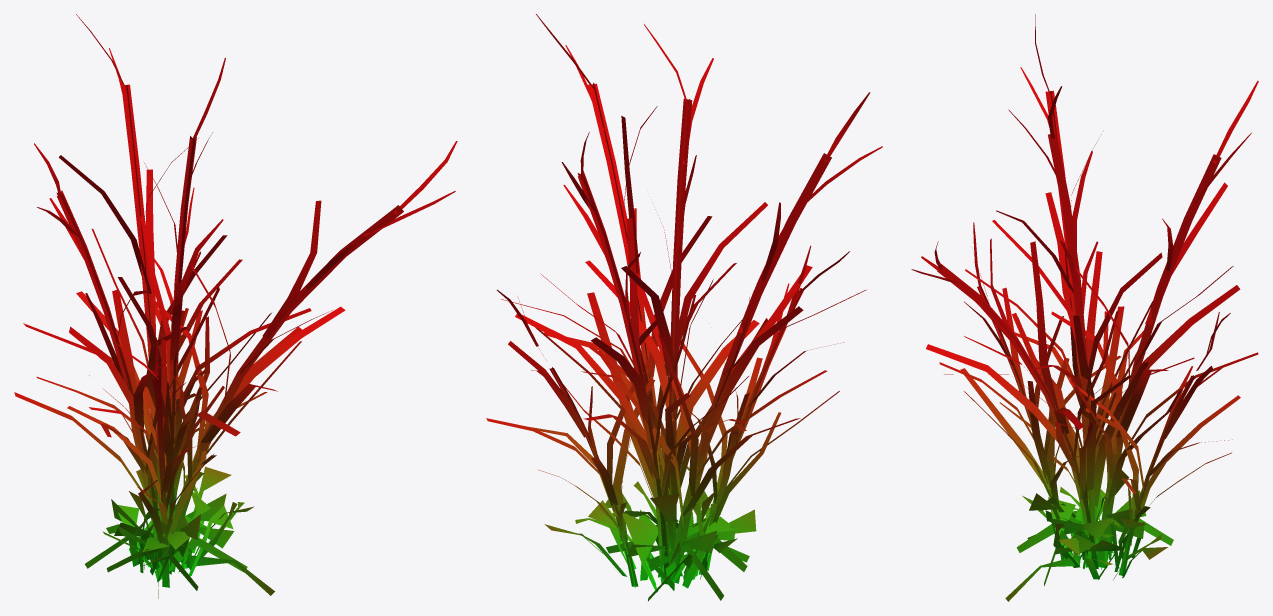
File: Var4_LOD2.fbx
3 views of the same model, side by side, from view 1: azimuth 30°, elevation 25°; view 2: azimuth 150°, elevation 25°; view 3: azimuth 270°, elevation 25° (orthographic). The views are drawn at different scales.
Visible parts, largest first — view 1: _d9aa_Var4_LOD2; view 2: _d9aa_Var4_LOD2; view 3: _d9aa_Var4_LOD2.
Boxes of the visible parts, bbox=[...] form: _d9aa_Var4_LOD2: bbox=[14, 14, 457, 598]; _d9aa_Var4_LOD2: bbox=[486, 14, 882, 601]; _d9aa_Var4_LOD2: bbox=[911, 14, 1258, 601].
Bounding box in the file's own units: 25.34 × 33.43 × 20.77.
